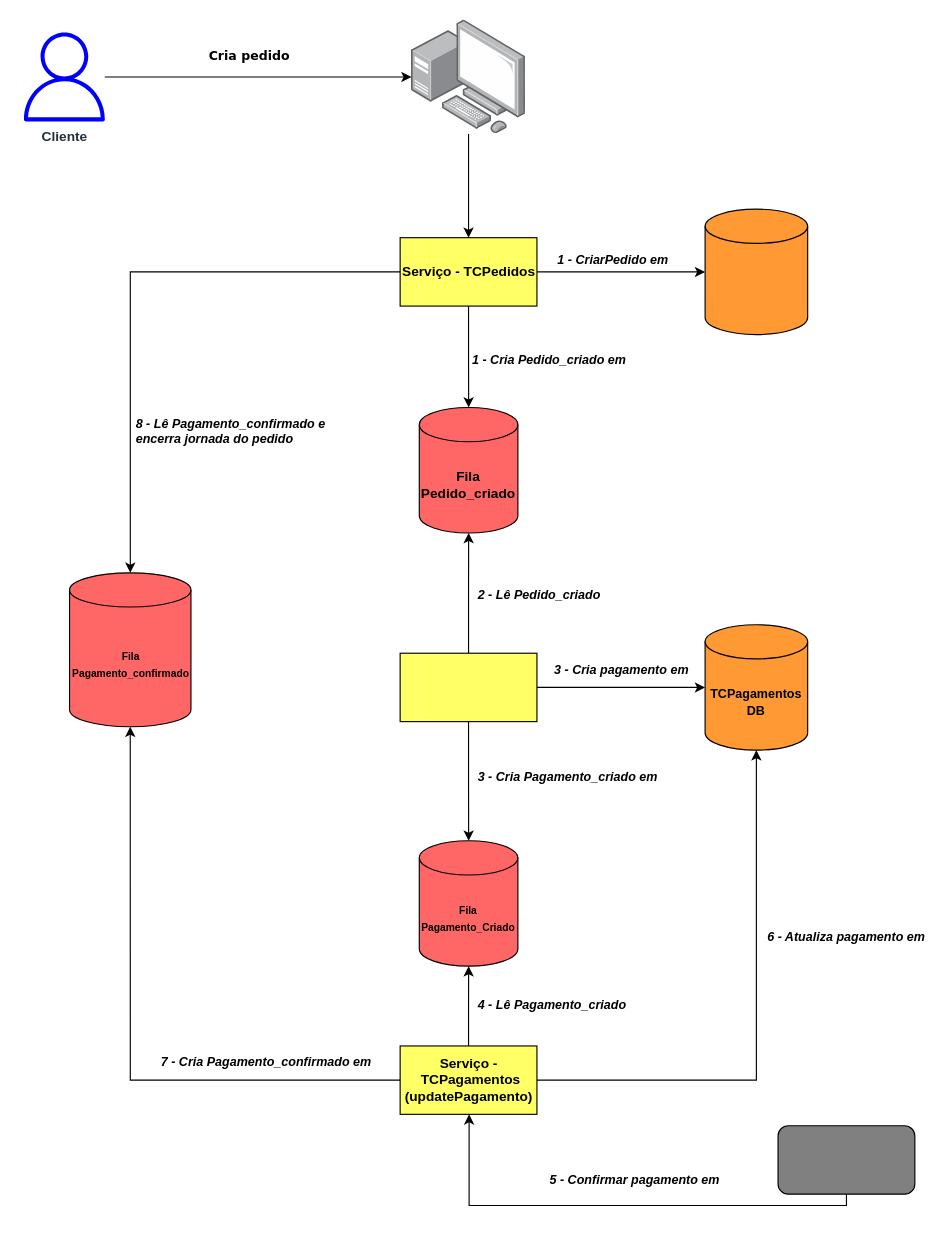
The diagram is 946 pixels wide and 1235 high, and some of its shapes have lost their labels. The centre of each missing label's shape, as x and y in pixels:
MockPagamento: (x=846, y=1159)
Serviço - TCPagamentos (addPagamento): (x=468, y=687)
TCPedidos DB: (x=756, y=271)
